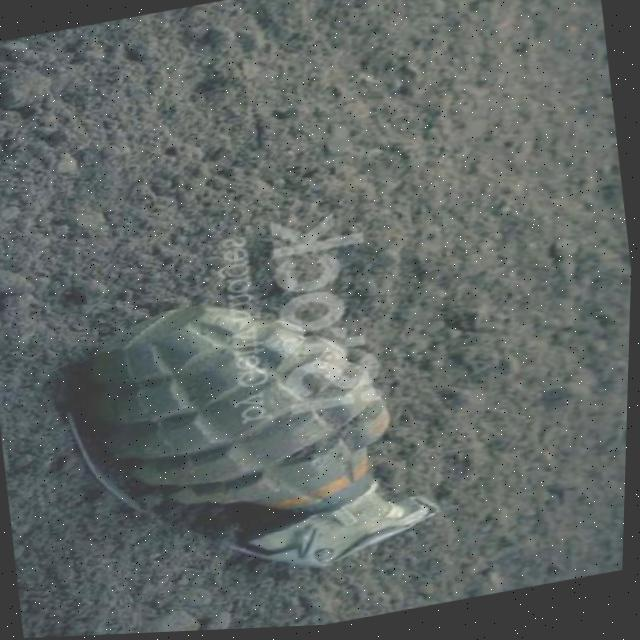grenade: (64, 260, 468, 605)
